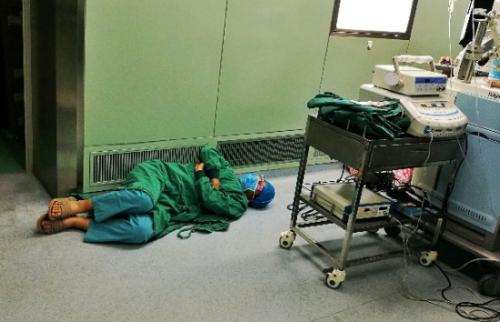down: (19, 135, 276, 261)
